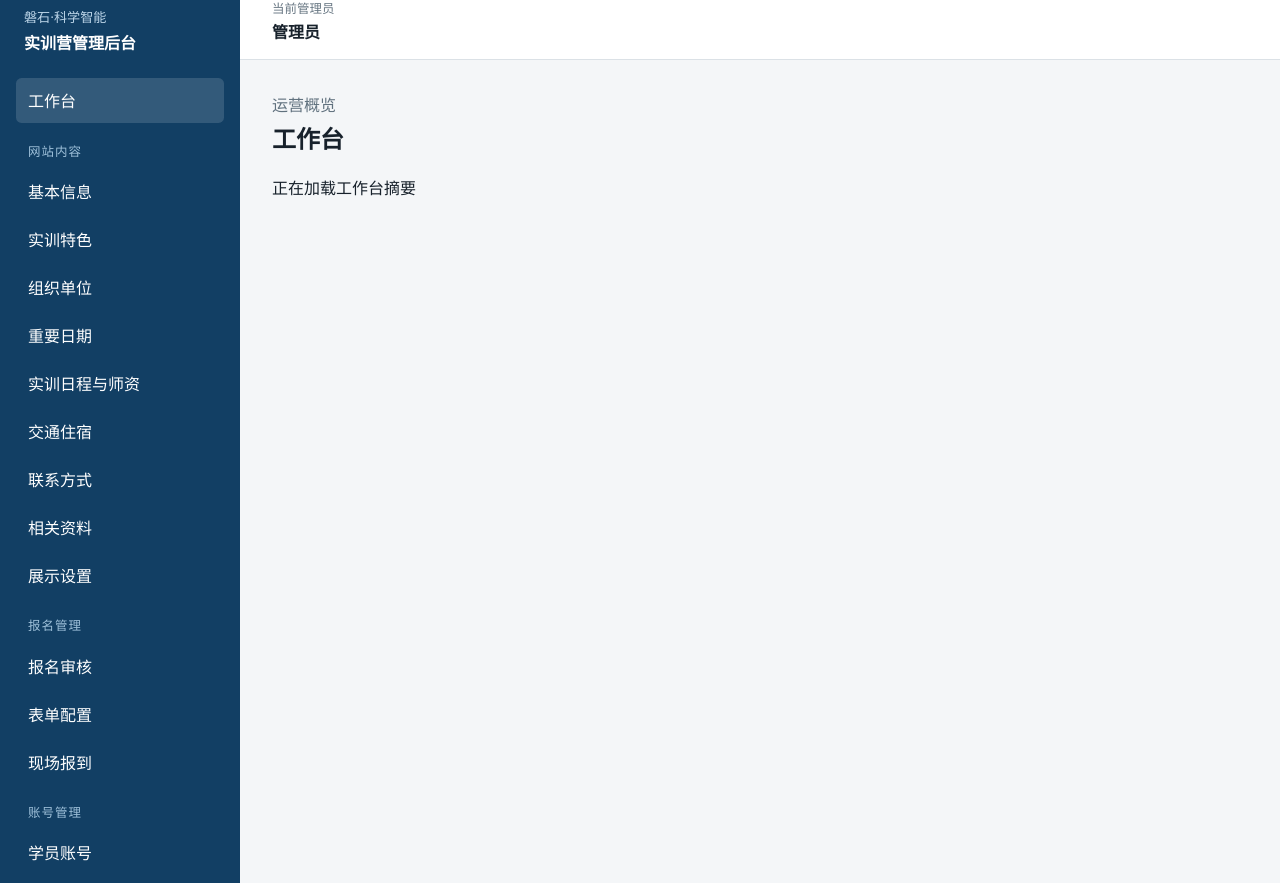
Test: content workbench › provides the complete business navigation and the resource publishing workbench
The image size is (1280, 883).
Expected: the heading "工作台" is shown, [272,120,344,155]
Expected: the link "基本信息" is shown, [28,182,92,202]
Click the link "表单配置".
click(60, 715)  # box [28,705,92,725]
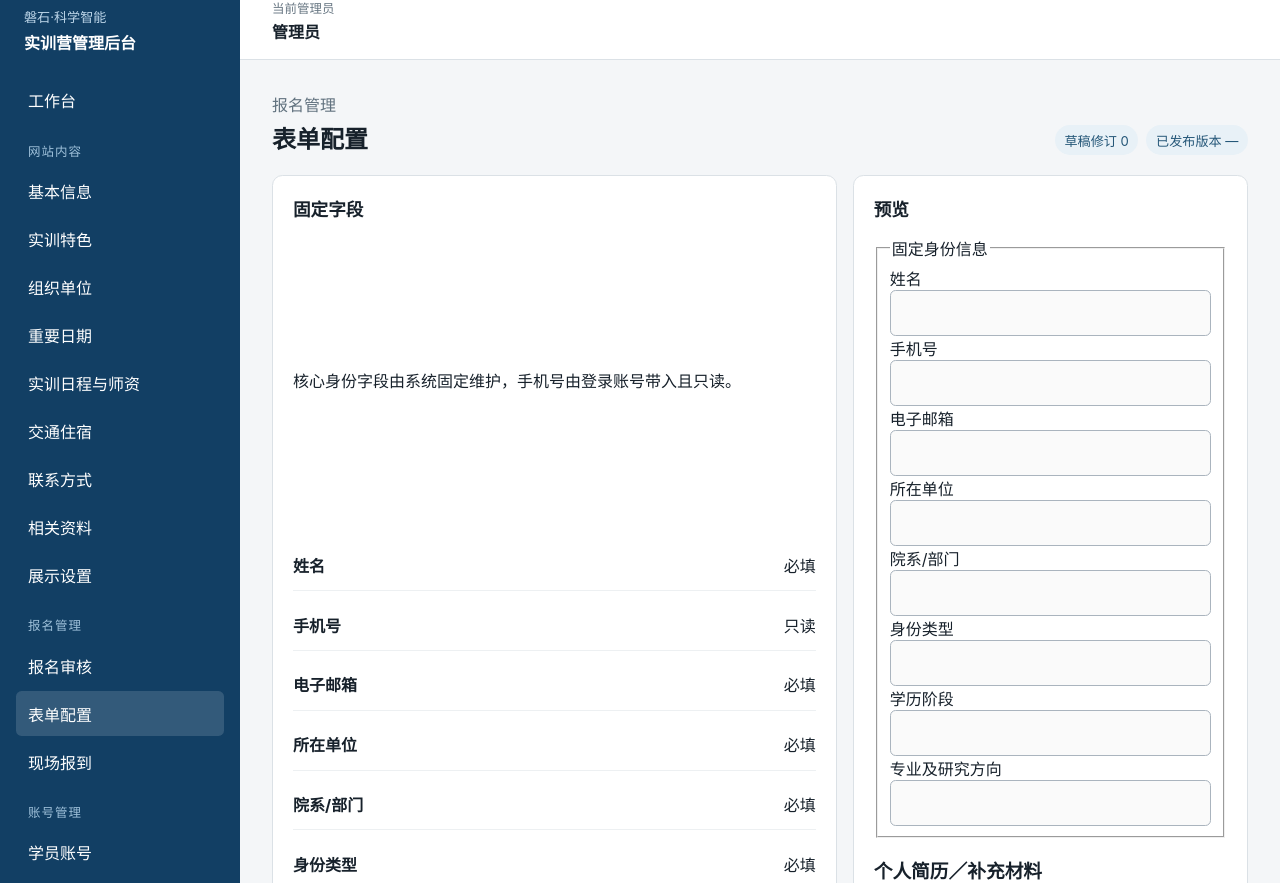
Expected: the heading "表单配置" is shown, [272,120,368,155]
Click the link "相关资料".
click(60, 528)  # box [28,518,92,538]
(page scrolled)
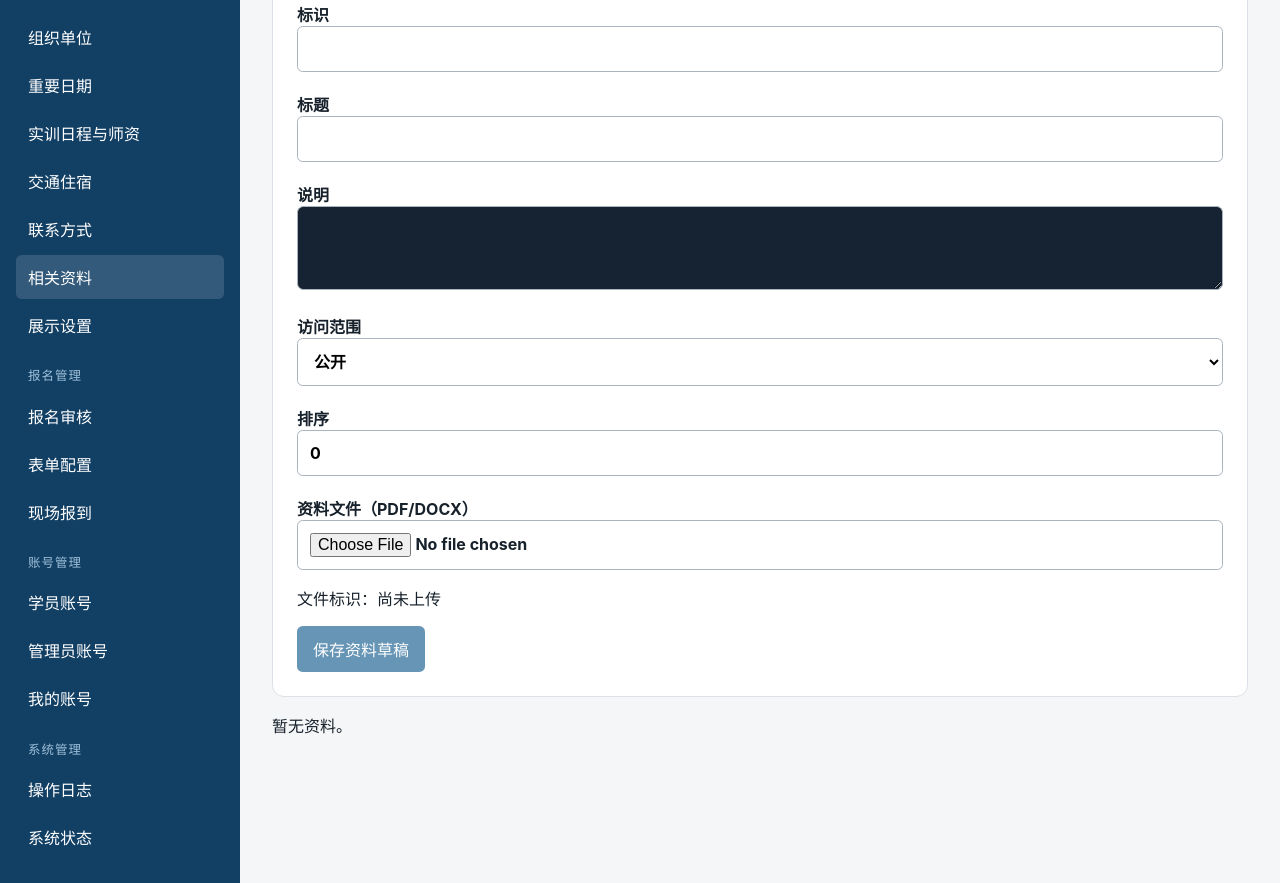
Expected: the text "暂无资料。" is shown, [272,716,352,736]
